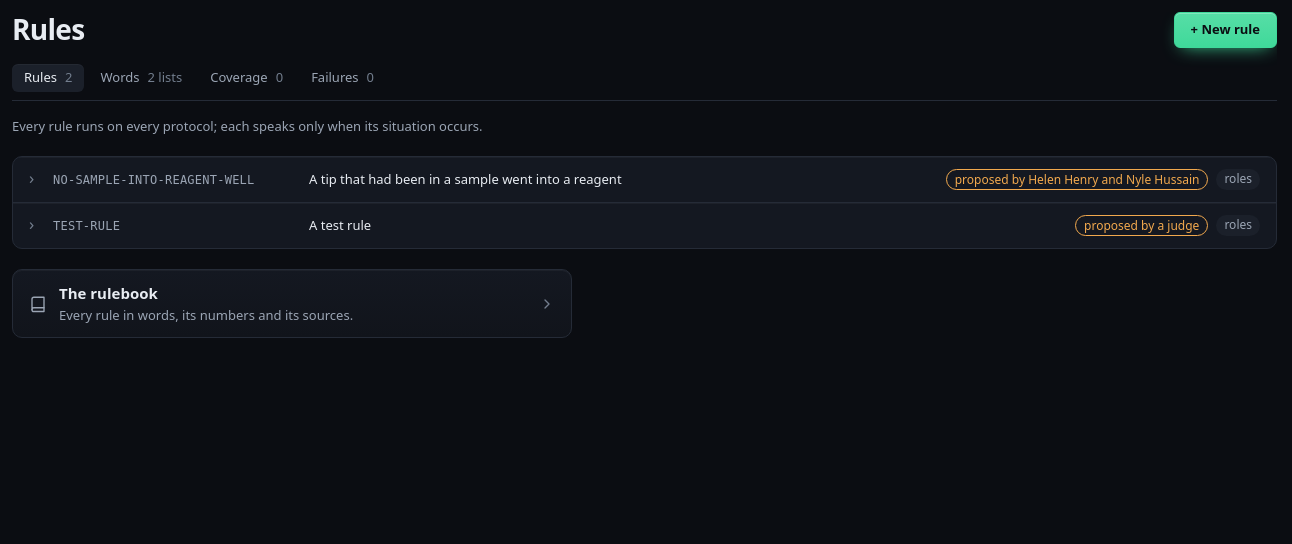
KnowsPage › says how rules are chosen, and deletes only a rule added on this site
Expected: the text "Every rule runs on every protocol; each speaks only when" is shown, [12,116,483,134]
What coordinates should you click on to do the following:
click the text "A tip that had been in a sample went into a reagent"
I would click on:
 (465, 179)
Its box is [309,170,622,188].
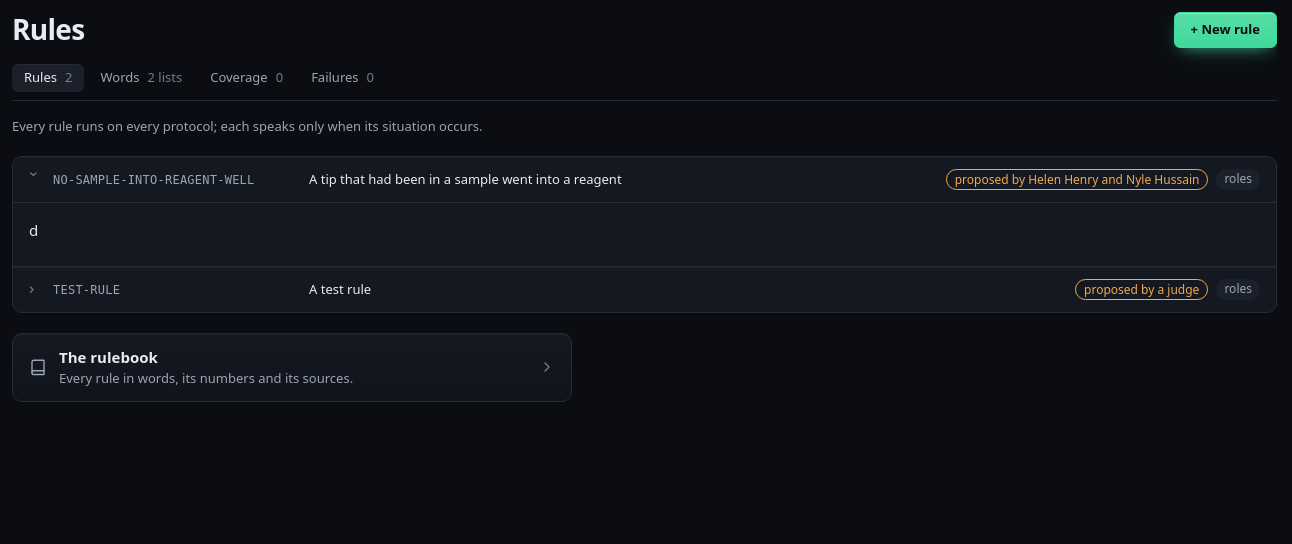
Expected: the text "Delete this rule" is not shown
What coordinates should you click on to do the following:
click the text "A test rule"
I would click on:
 (340, 289)
Its box is [309,280,371,298].
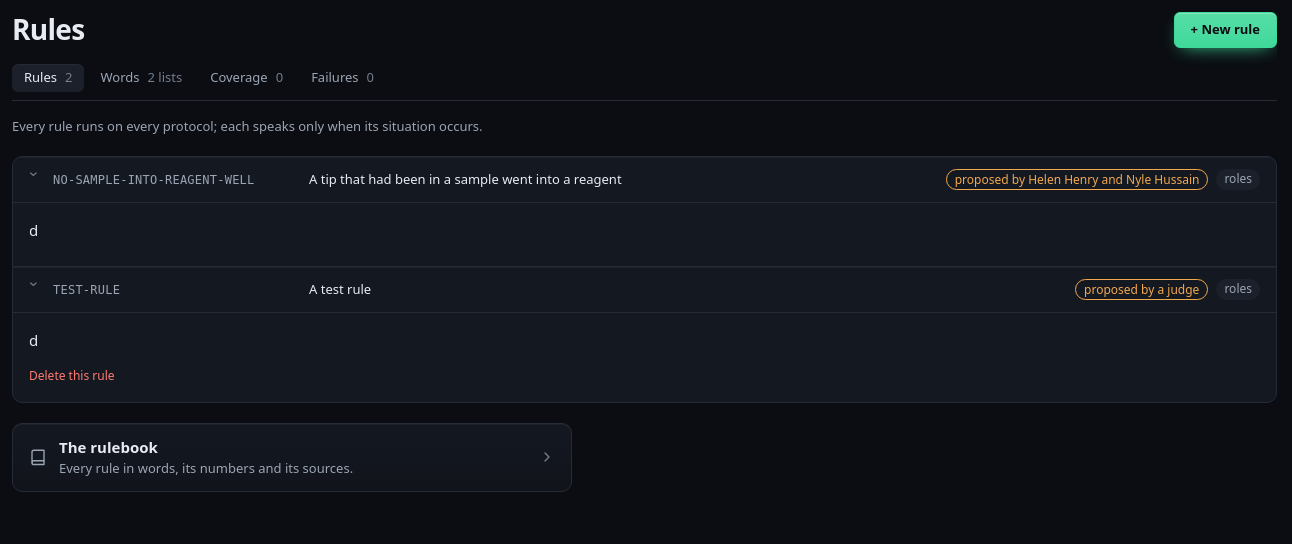
What coordinates should you click on to do the following:
click the button "Delete this rule"
I would click on:
 (72, 376)
Its box is [29,367,115,385].
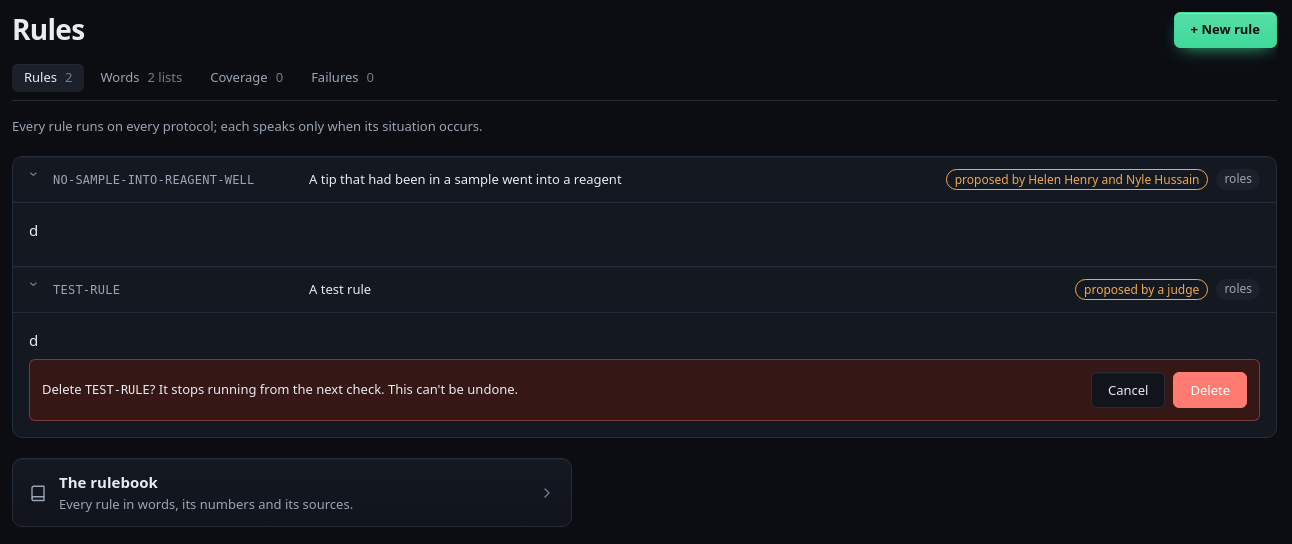
Expected: the text "stops running from the next check" is shown, [150,380,518,398]
What coordinates should you click on to do the following:
click the button "Delete"
I would click on:
 (1210, 390)
Its box is [1174,372,1247,408].
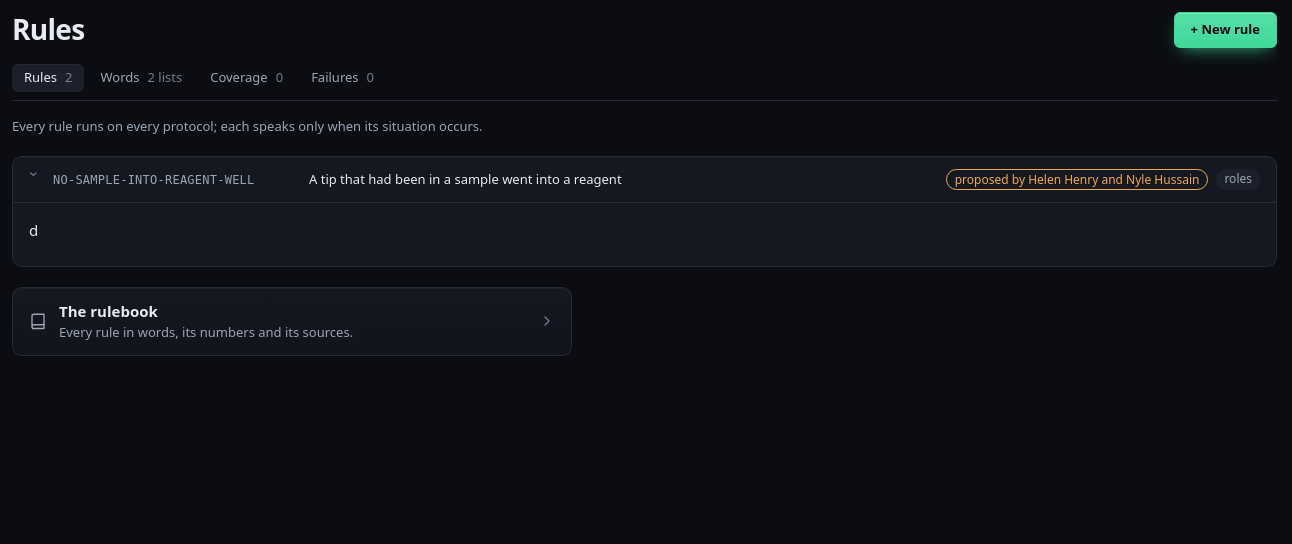
Expected: the heading "TEST-RULE" is gone
